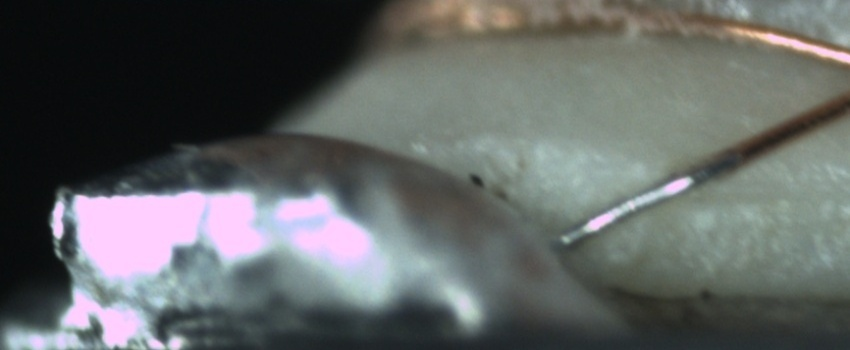DL: (684, 162, 849, 221)
TS: (560, 153, 742, 250)
